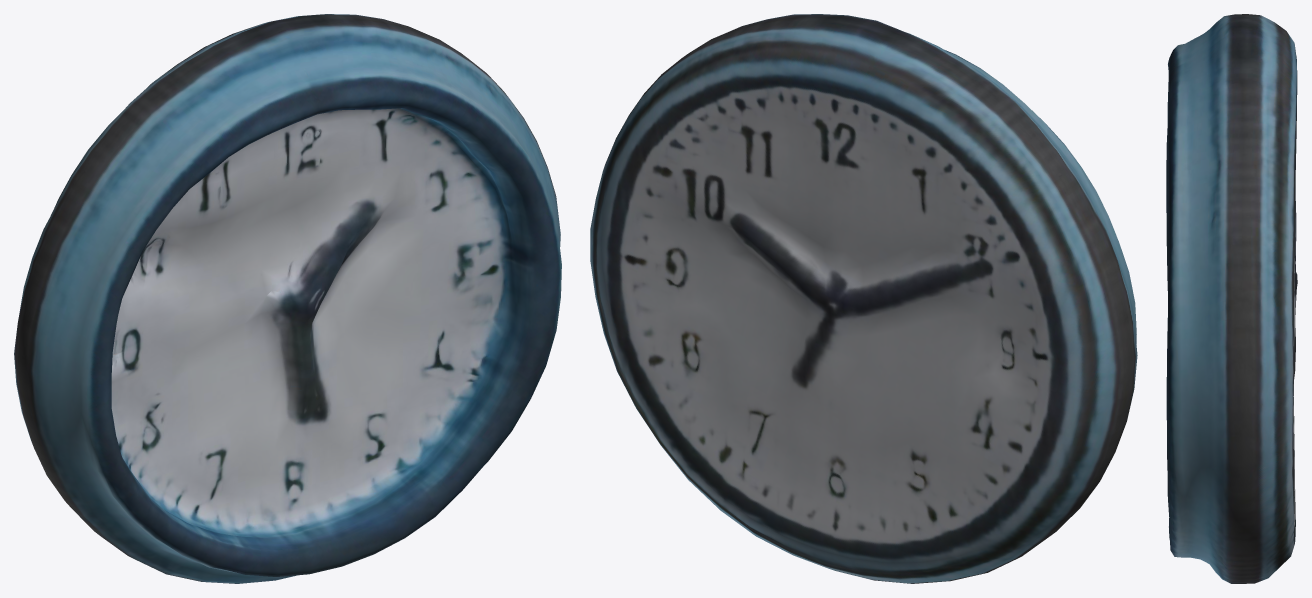
The model's file is clock.fbx.
3 views of the same model, side by side, from view 1: azimuth 30°, elevation 25°; view 2: azimuth 150°, elevation 25°; view 3: azimuth 270°, elevation 25° (orthographic). The views are drawn at different scales.
Visible parts, largest first — view 1: mesh; view 2: mesh; view 3: mesh.
Part boxes in pixels (<box>): mesh: <box>14,14,561,583</box>; mesh: <box>590,14,1137,583</box>; mesh: <box>1166,14,1297,583</box>.
Size of the model in its own units: 99.89 by 98.48 by 22.54.
